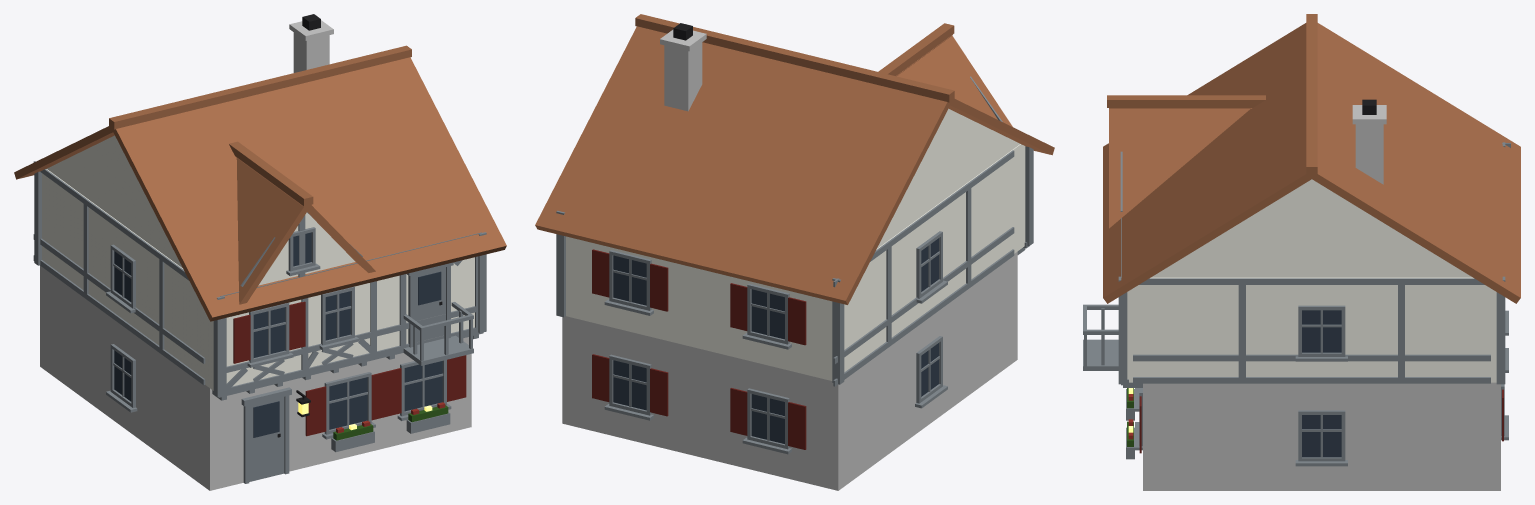
File: timber_house.gltf
3 renders of one model, left to right at view 1: azimuth 30°, elevation 25°; view 2: azimuth 150°, elevation 25°; view 3: azimuth 270°, elevation 25°, orthographic. The views are drawn at different scales.
Parts seen in each view (by area): view 1: timber_house; view 2: timber_house; view 3: timber_house.
Part boxes in pixels (x1,y1,x2,y2): timber_house: [14, 14, 506, 490]; timber_house: [535, 14, 1054, 490]; timber_house: [1083, 14, 1520, 490].
Bounding box in the file's own units: 9.1 × 10.02 × 11.
